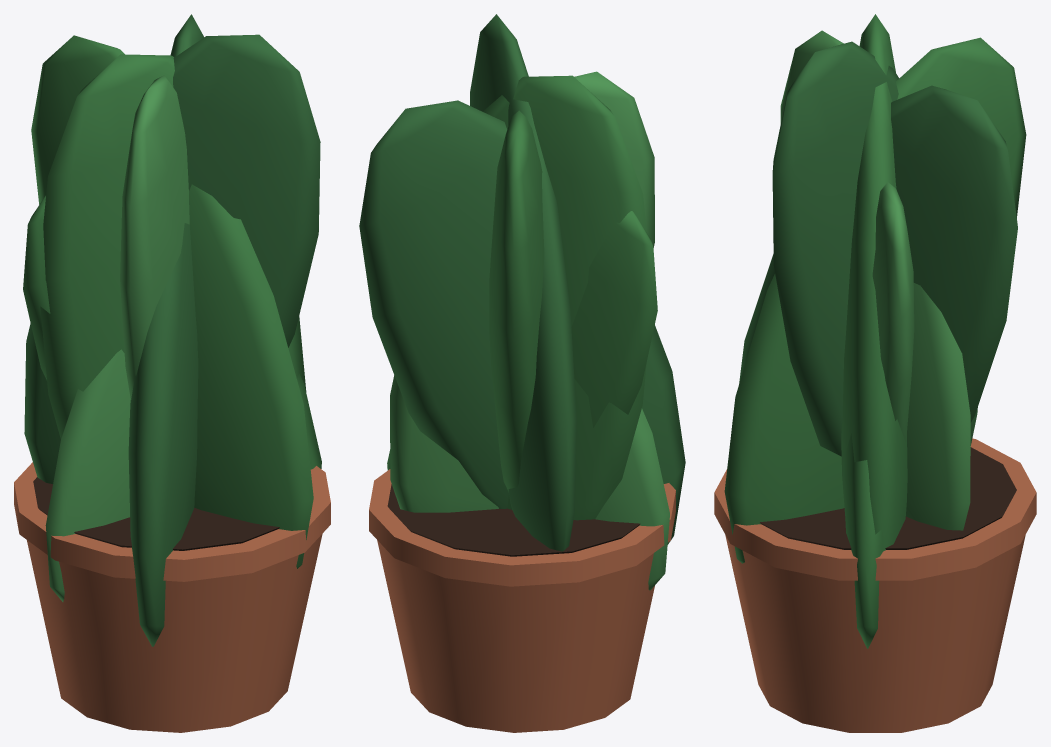
Rendered from plant.glb.
3 views of the same model, side by side, from view 1: azimuth 30°, elevation 25°; view 2: azimuth 150°, elevation 25°; view 3: azimuth 270°, elevation 25° (orthographic). The views are drawn at different scales.
Size of the model in its own units: 0.6878 by 1.49 by 0.66.
